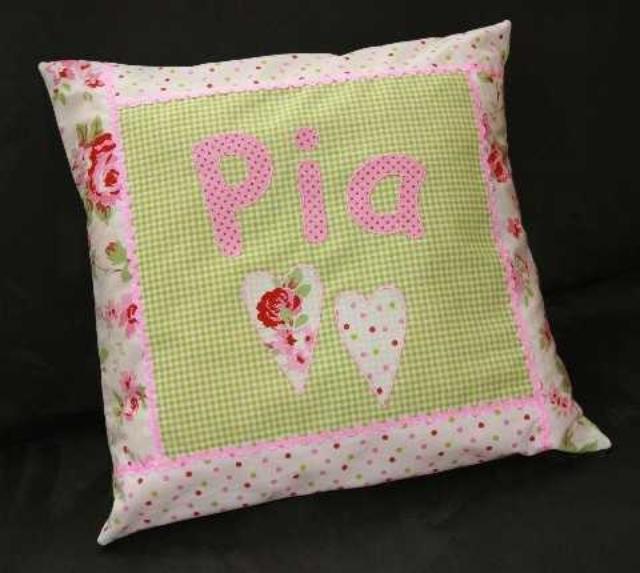pillow: (36, 19, 612, 547)
